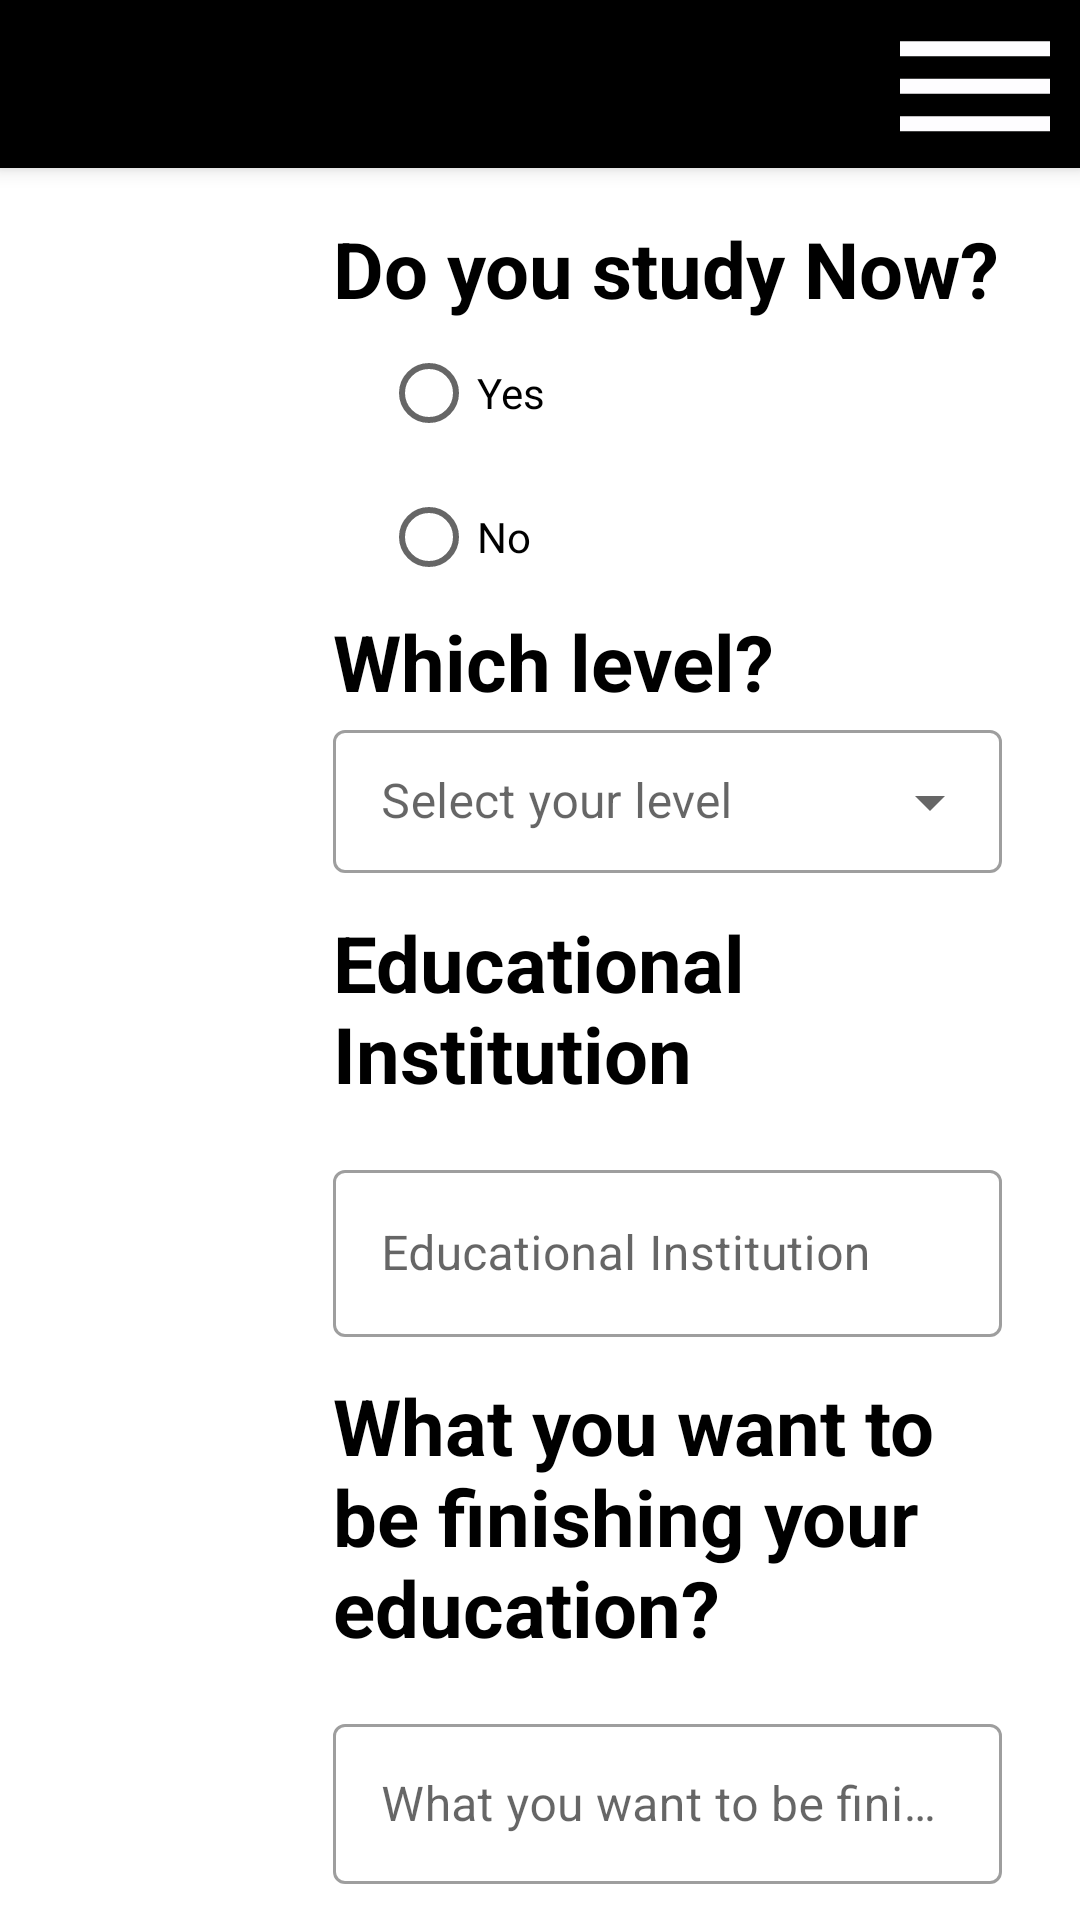

Named icons in this screenshot (1080 x 1920) and their bounding boxes, (x1, y1, x2, y2):
dehaze: (900, 41, 1050, 132)
